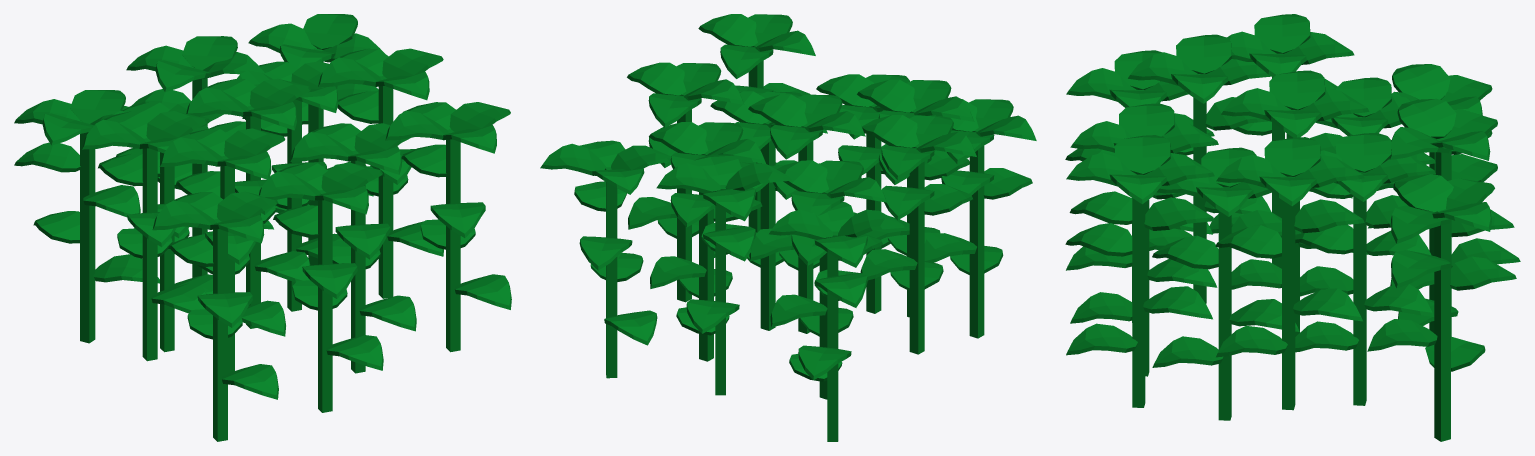
Rendered from Peppermint2.fbx.
3 views of the same model, side by side, from view 1: azimuth 30°, elevation 25°; view 2: azimuth 150°, elevation 25°; view 3: azimuth 270°, elevation 25° (orthographic). The views are drawn at different scales.
Visible parts, largest first — view 1: Cube.009; view 2: Cube.009; view 3: Cube.009.
Part boxes in pixels (x1=…): Cube.009: x1=14, y1=14, x2=511, y2=441; Cube.009: x1=540, y1=14, x2=1036, y2=441; Cube.009: x1=1065, y1=14, x2=1520, y2=441.
Bounding box in the file's own units: 178 × 183 × 128.
